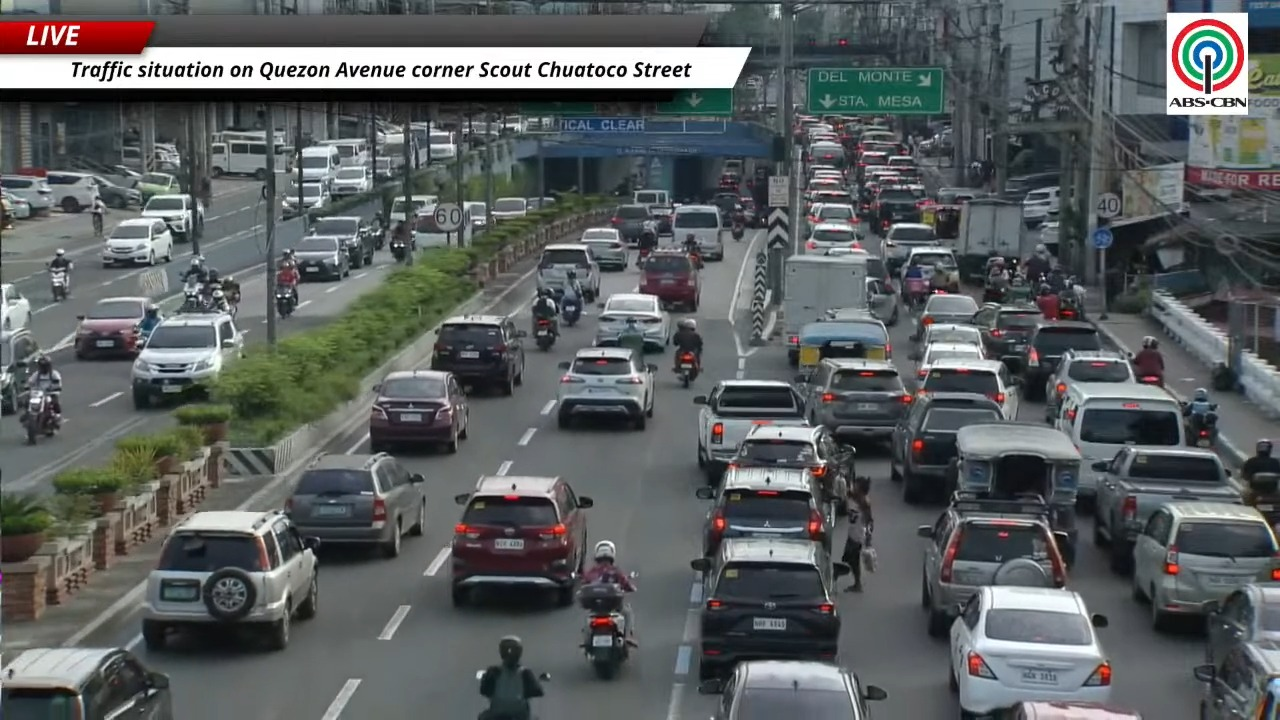bus: (210, 140, 267, 179), (319, 138, 368, 166), (211, 129, 264, 142)
car: (141, 510, 319, 651), (690, 537, 849, 680), (917, 492, 1066, 637), (949, 586, 1110, 715), (1132, 497, 1279, 631), (450, 476, 593, 606), (284, 451, 425, 556), (890, 393, 1005, 503), (696, 465, 834, 556), (0, 647, 174, 719), (699, 660, 887, 719), (131, 312, 242, 408), (729, 426, 855, 510), (799, 358, 912, 440), (368, 369, 468, 452), (556, 347, 657, 429), (430, 315, 526, 395), (1193, 640, 1279, 719), (1019, 320, 1102, 400), (1044, 350, 1136, 421), (917, 358, 1018, 419), (1205, 583, 1279, 663), (74, 296, 150, 359), (594, 293, 672, 351), (972, 303, 1042, 363), (638, 248, 700, 311), (535, 243, 600, 302), (307, 216, 376, 267), (102, 218, 173, 267), (0, 329, 40, 414), (140, 192, 204, 241), (879, 222, 936, 276), (672, 204, 726, 260), (912, 294, 977, 340), (293, 235, 350, 281), (1012, 700, 1142, 719), (917, 342, 986, 377), (45, 171, 99, 212), (872, 187, 921, 231), (579, 227, 628, 270), (0, 175, 53, 214), (866, 263, 898, 325), (282, 181, 331, 219), (804, 222, 860, 253), (91, 175, 141, 208), (610, 203, 651, 242), (387, 194, 438, 224), (1022, 186, 1059, 227), (920, 323, 981, 347), (0, 283, 31, 330), (136, 172, 181, 202), (808, 203, 860, 226), (330, 167, 371, 196), (490, 197, 529, 224), (805, 189, 853, 210), (0, 191, 33, 218), (463, 201, 487, 230), (806, 176, 845, 191), (527, 197, 555, 210), (975, 306, 977, 312)
motorcycle: (578, 583, 629, 679), (20, 388, 56, 444), (1187, 404, 1217, 447), (1129, 354, 1163, 387), (179, 276, 204, 312), (903, 277, 926, 311), (676, 351, 697, 388), (49, 267, 68, 301), (275, 286, 295, 318), (1059, 291, 1081, 320), (535, 319, 555, 350), (561, 298, 581, 326), (983, 281, 1007, 302), (137, 323, 157, 347), (390, 238, 406, 262), (636, 245, 651, 268), (1138, 374, 1162, 387), (689, 250, 703, 268), (731, 221, 744, 240), (474, 669, 486, 682)
truck: (1090, 446, 1242, 573), (693, 379, 807, 485), (782, 254, 868, 351), (953, 198, 1024, 284)
